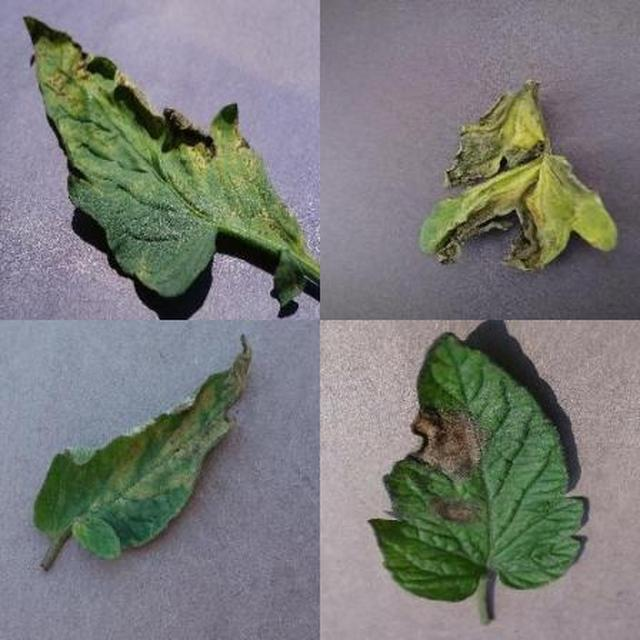Septoria Leaf: (204, 222, 640, 640)
